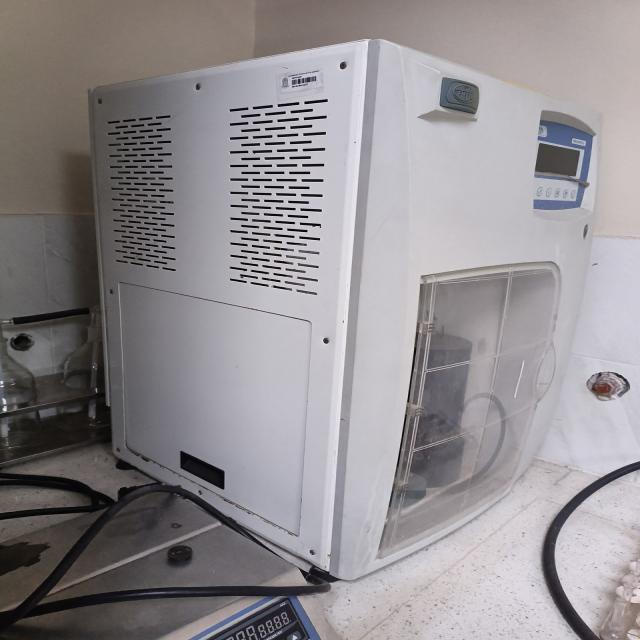Unidad de Destilacion Kjeldahl: (90, 40, 601, 578)
